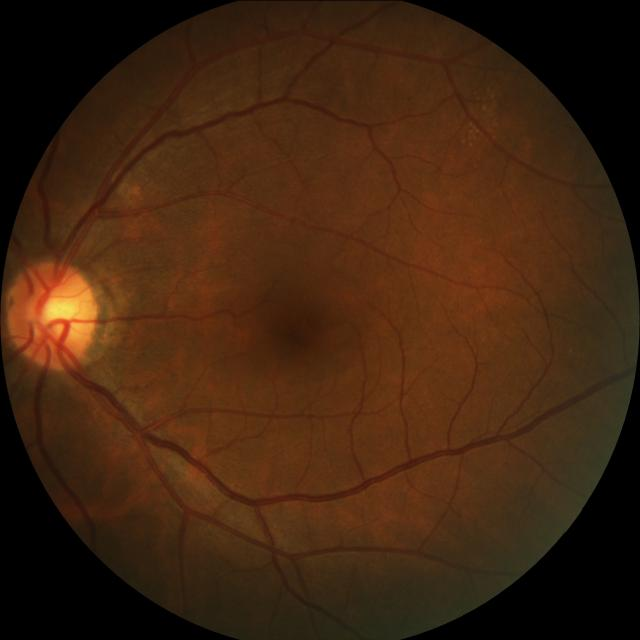OC: (27, 284, 77, 336)
OD: (5, 258, 96, 368)
